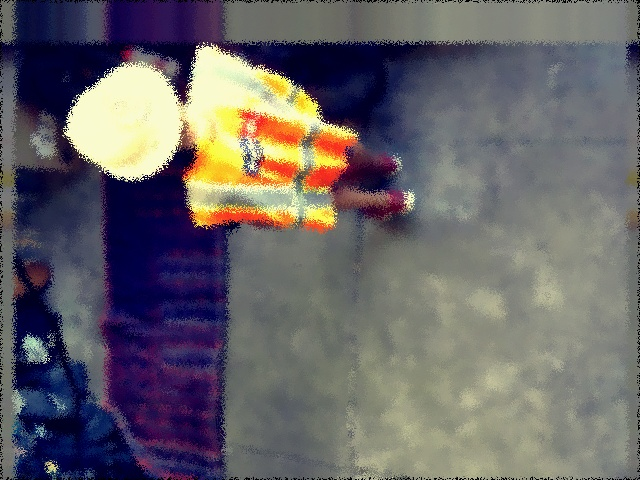eight: (101, 84, 149, 126)
